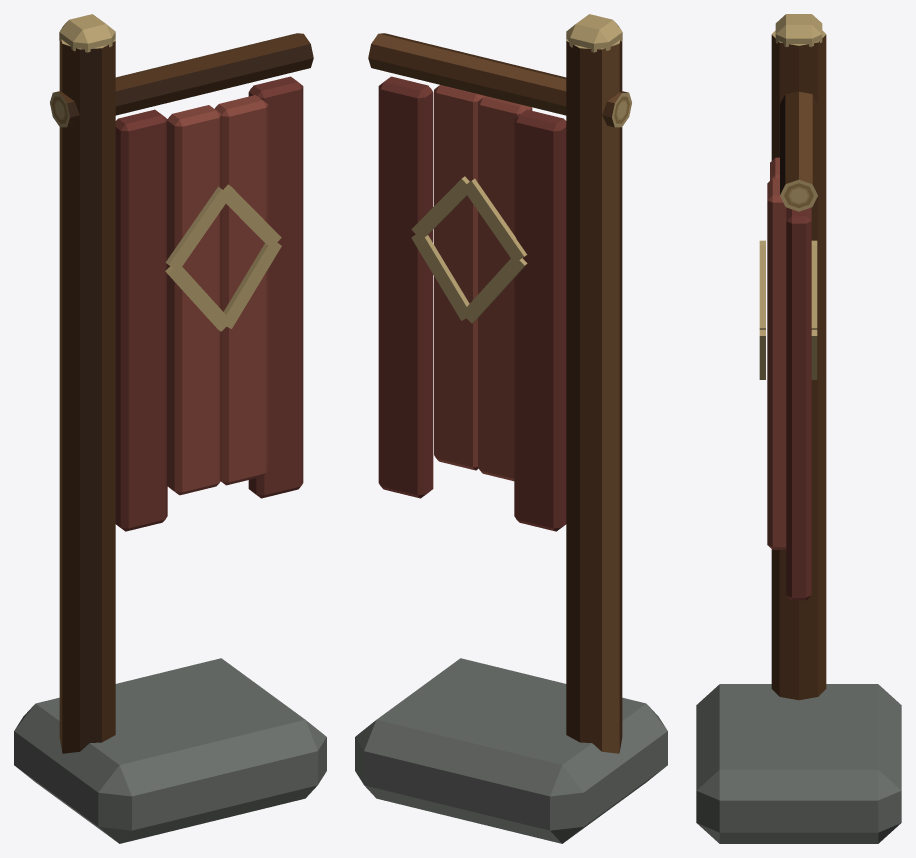
Rendered from settlement_flag.glb.
3 views of the same model, side by side, from view 1: azimuth 30°, elevation 25°; view 2: azimuth 150°, elevation 25°; view 3: azimuth 270°, elevation 25° (orthographic). The views are drawn at different scales.
Visible parts, largest first — view 1: settlement_flag; view 2: settlement_flag; view 3: settlement_flag.
Boxes of the visible parts, bbox=[...] form: settlement_flag: bbox=[14, 14, 326, 843]; settlement_flag: bbox=[355, 14, 667, 843]; settlement_flag: bbox=[696, 14, 901, 843].
Bounding box in the file's own units: 0.985 × 3 × 0.75.
